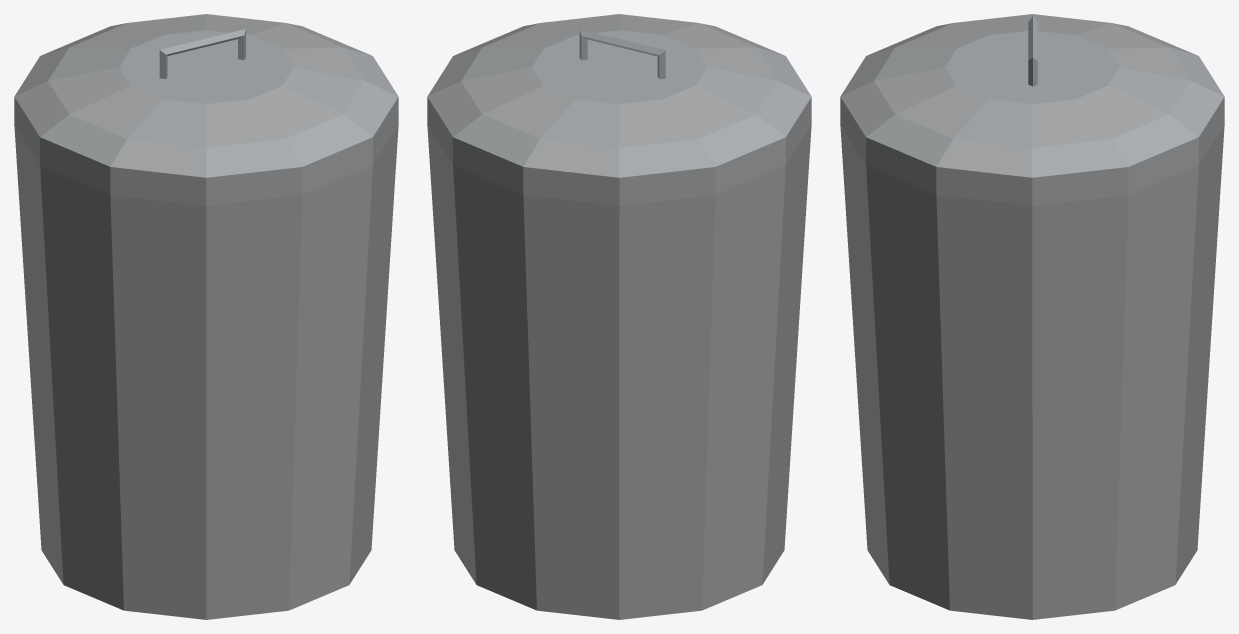
File: SM_garbagecan_metal_02.fbx
The picture shows the model from 3 angles, left to right: view 1: azimuth 30°, elevation 25°; view 2: azimuth 150°, elevation 25°; view 3: azimuth 270°, elevation 25°; orthographic projection.
Parts seen in each view (by area): view 1: Line004; view 2: Line004; view 3: Line004.
Boxes of the visible parts, box(x1,y1,x2,y2) form: Line004: box(14, 14, 398, 619); Line004: box(427, 14, 811, 619); Line004: box(840, 14, 1224, 619).
Bounding box in the file's own units: 26.54 × 26.54 × 38.99.
